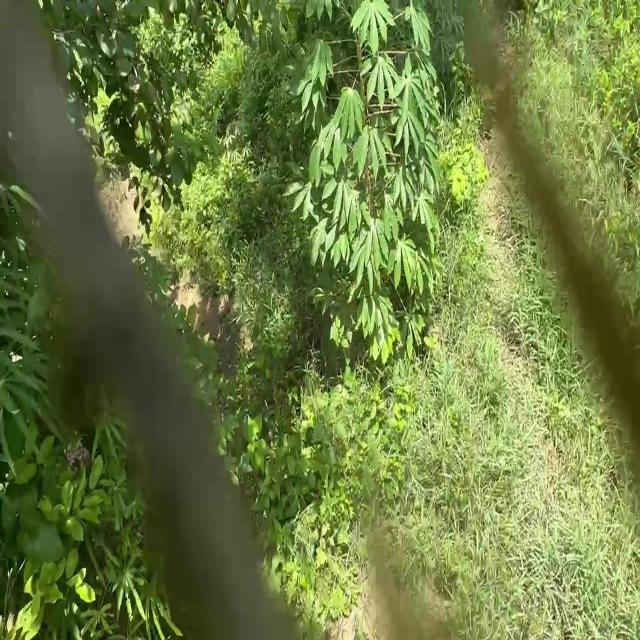Maleza: (324, 484, 570, 634), (340, 364, 577, 483), (501, 394, 640, 578), (197, 243, 325, 429), (513, 20, 640, 207), (124, 16, 242, 181), (272, 385, 398, 531), (466, 220, 555, 369), (2, 562, 131, 633), (172, 141, 237, 271), (39, 464, 135, 539), (449, 91, 494, 205)
